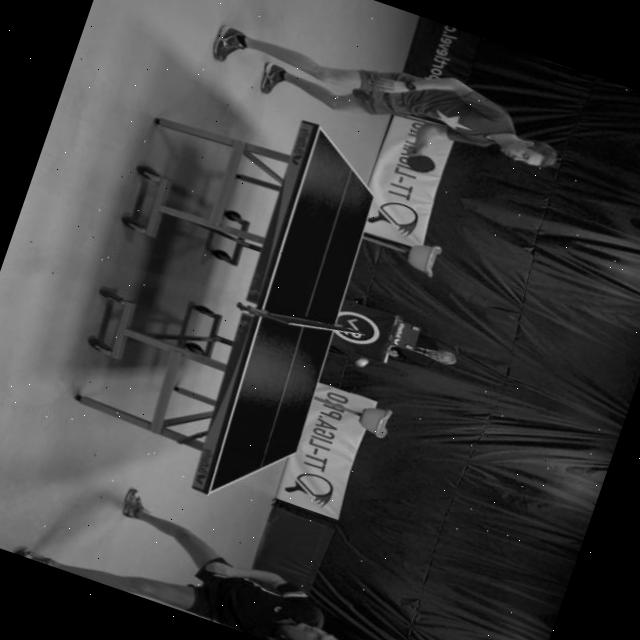ping-pong-ball: (348, 352, 372, 372)
